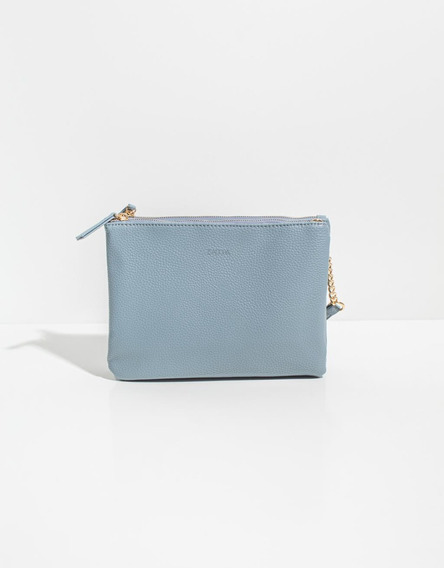cartera: (75, 205, 345, 383)
